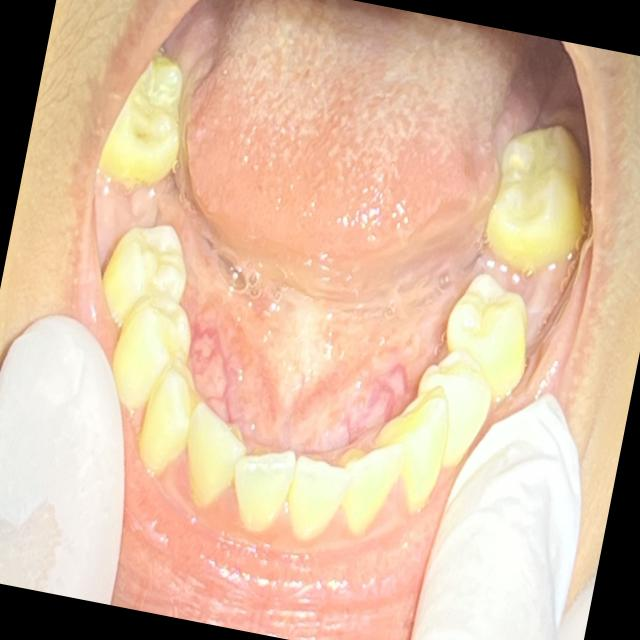tooth: (432, 261, 545, 399), (98, 282, 204, 427), (363, 372, 461, 517), (401, 332, 500, 473), (170, 384, 257, 527), (90, 212, 200, 324), (478, 171, 585, 271), (135, 343, 208, 486), (491, 106, 598, 195), (222, 433, 302, 544), (324, 440, 405, 539), (279, 446, 354, 546), (110, 88, 185, 185), (136, 49, 189, 110)
